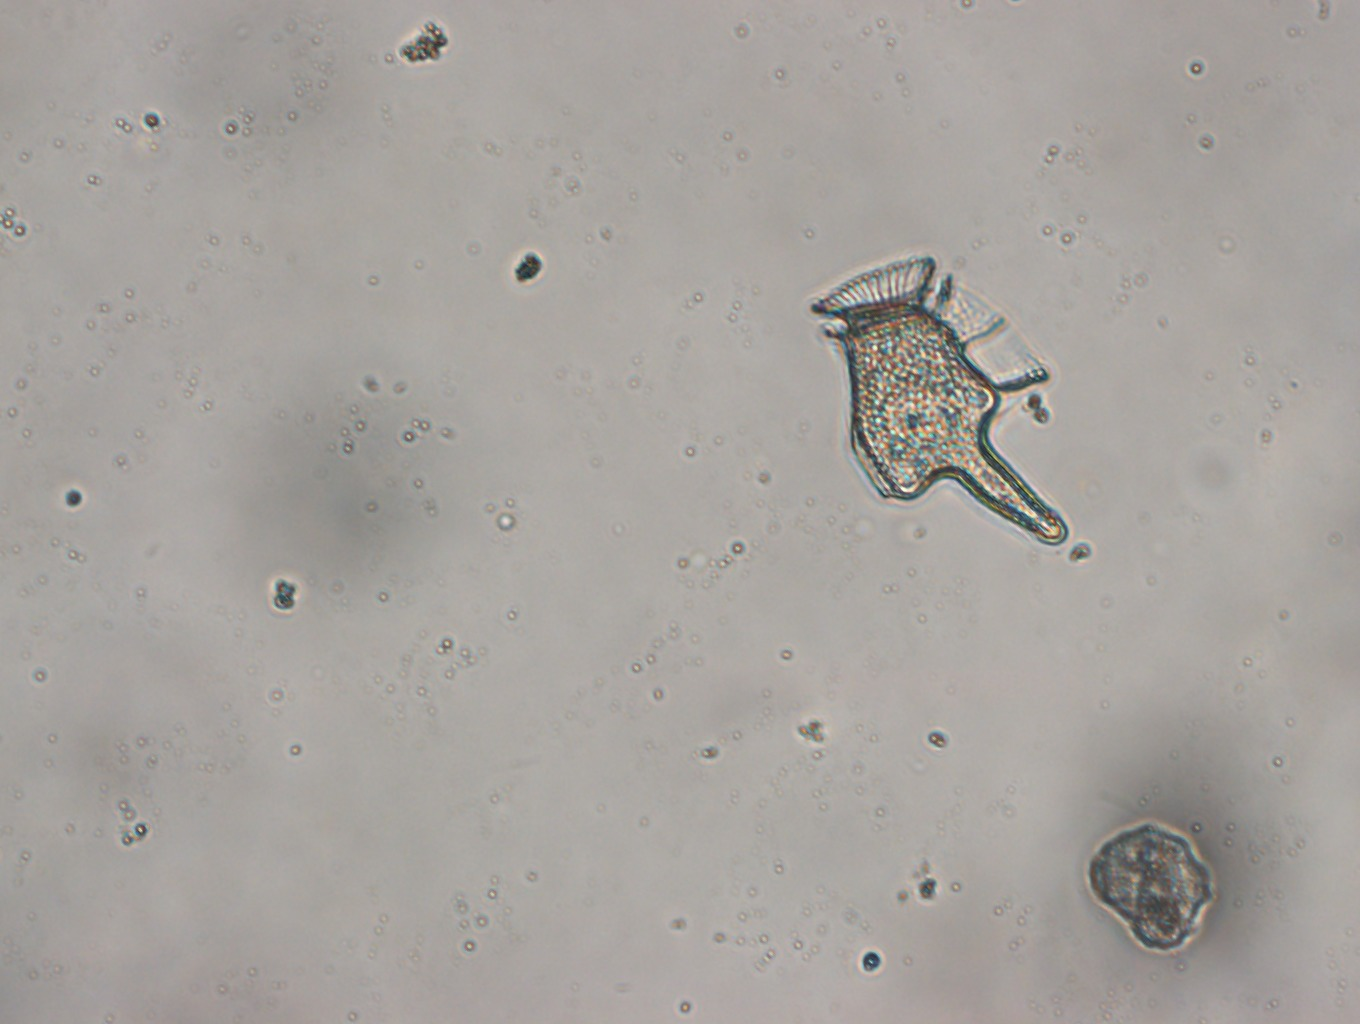dinophysis caudata: (804, 251, 1069, 551)
